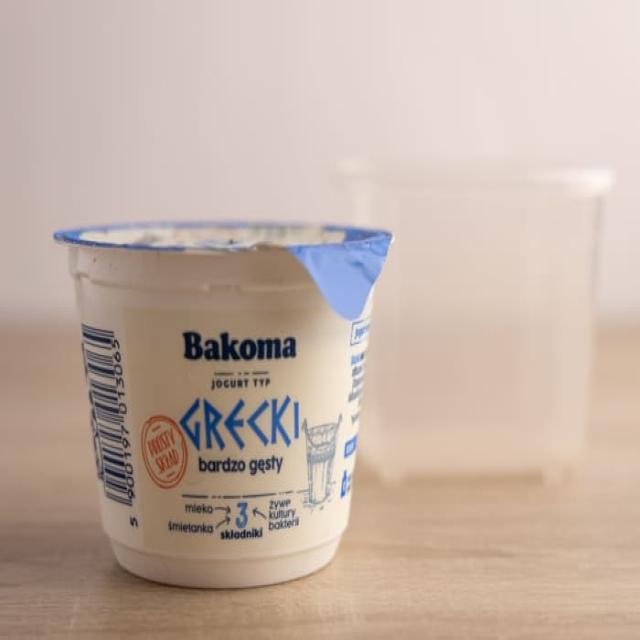plastic: (42, 192, 382, 582)
